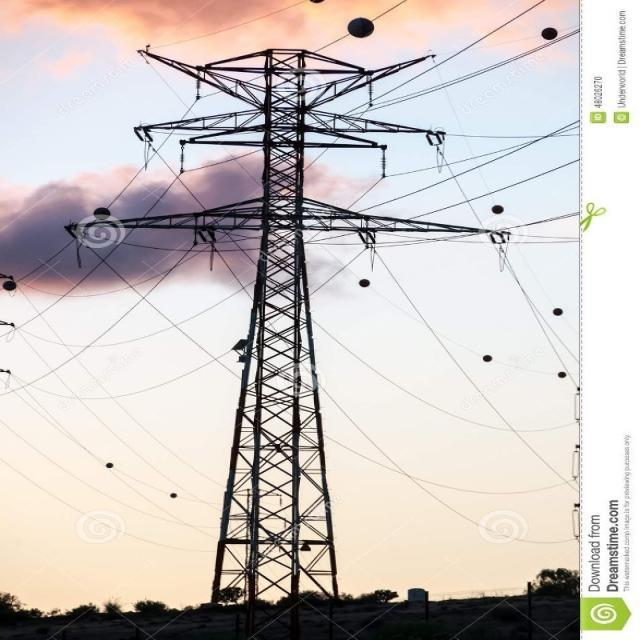non-critical vegetation: (103, 31, 458, 606)
